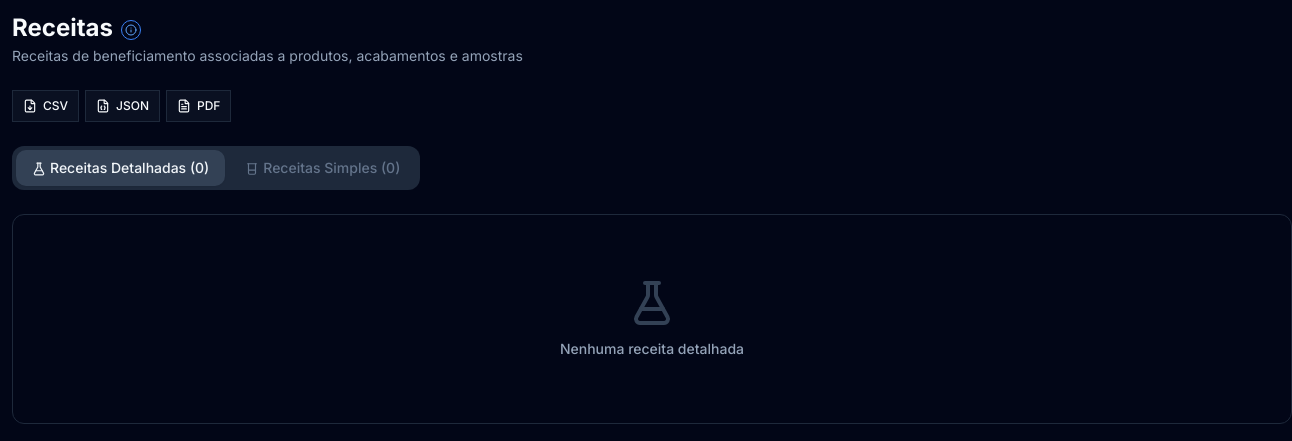
Test: ListaReceitasPage › mostra estado vazio em ambas as abas
This screenshot has width=1292, height=441.
Expected: the text "Nenhuma receita detalhada" is shown, [560,339,744,359]
Click the button "Receitas Simples (0)" at (323, 168), box [229,150,416,186]
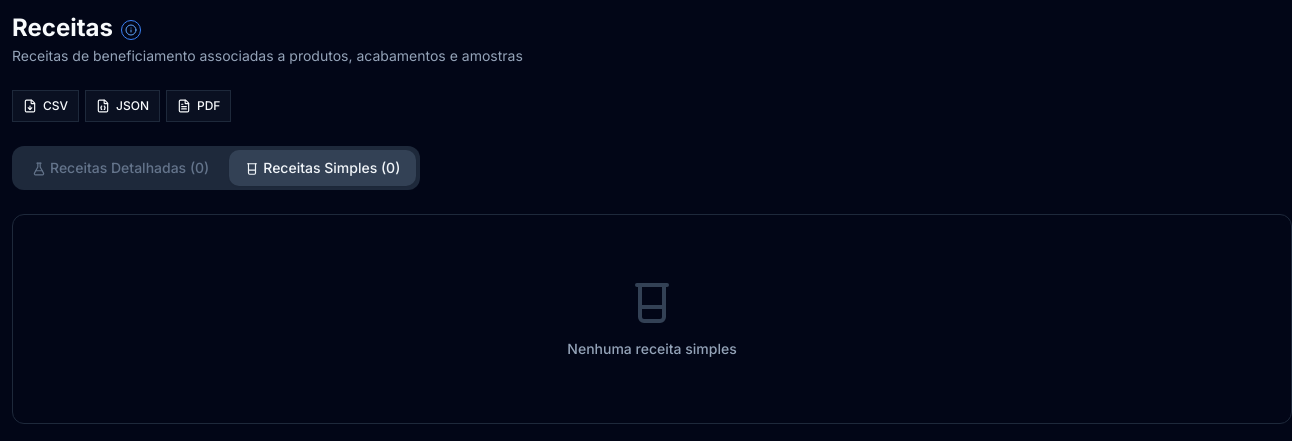
Expected: the text "Nenhuma receita simples" is shown, [567,339,737,359]
